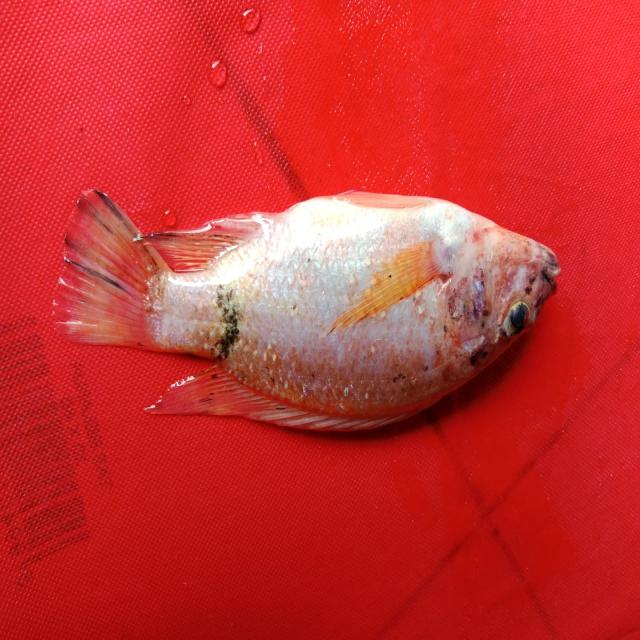ikan: (50, 175, 564, 442)
